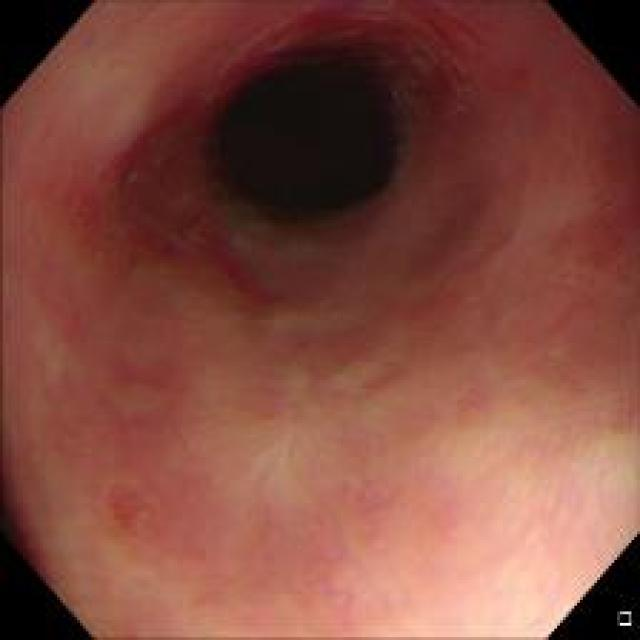contrast: (190, 36, 409, 241)
